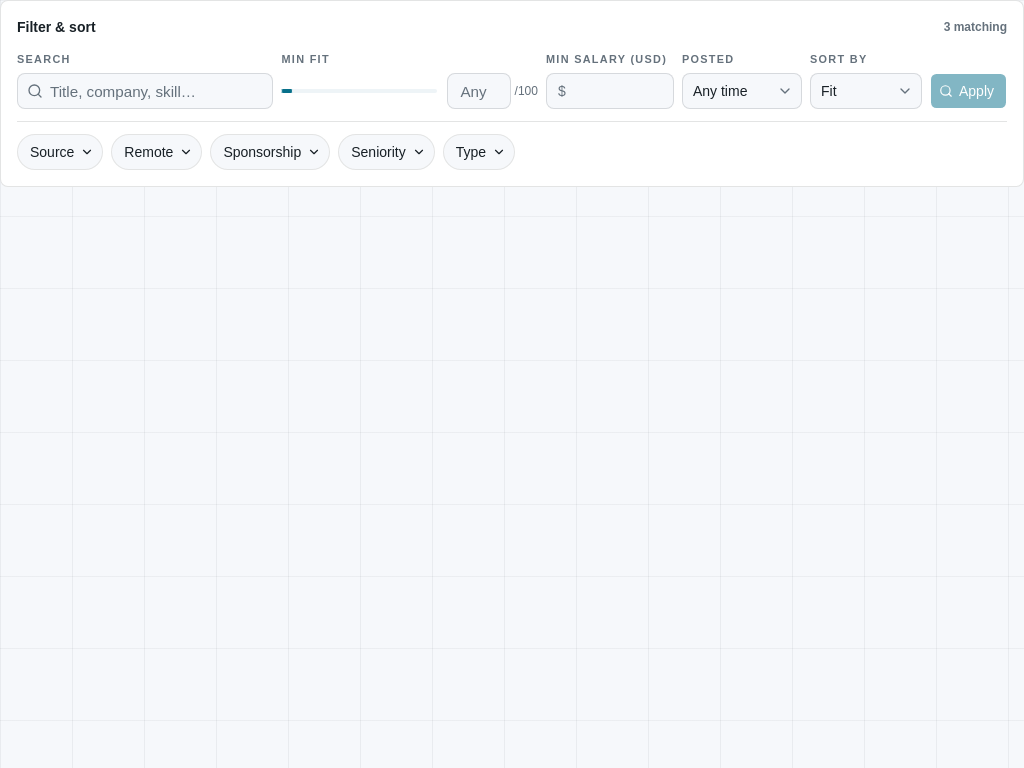
Test: FilterDesk › does not reopen a facet that disappeared during a server refresh
The width and height of the screenshot is (1024, 768).
Click the button "Source" at (60,152), box 17,134 -> 103,170
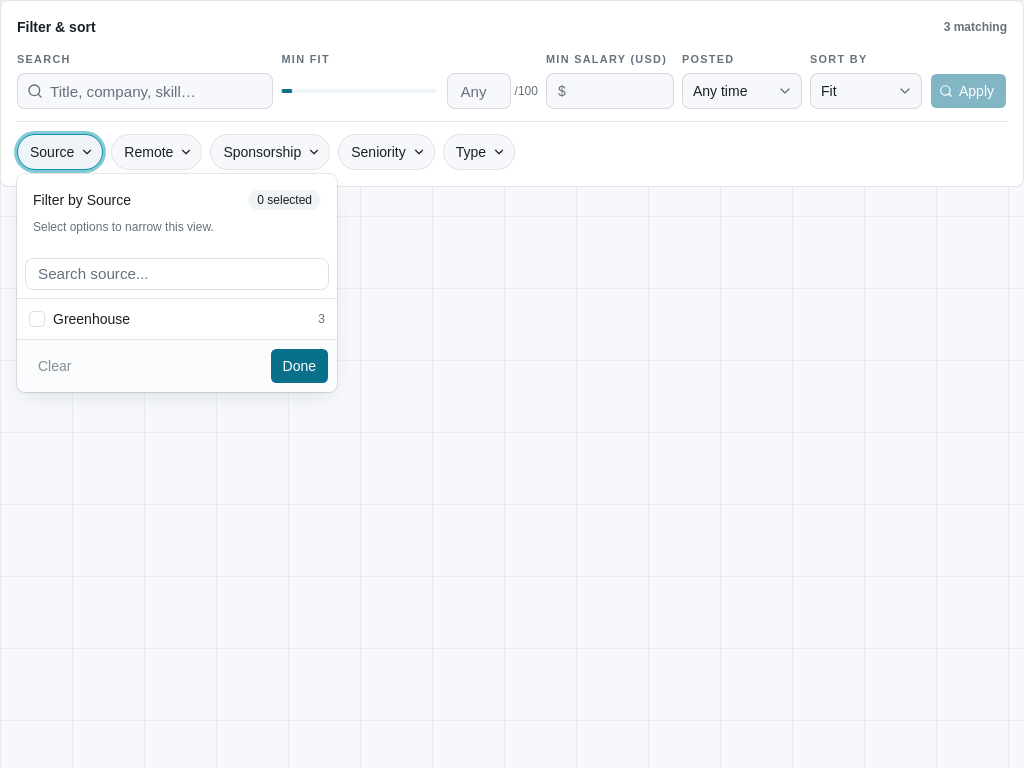
Result: the heading "Filter by Source" is shown at 33,193 -> 131,207
